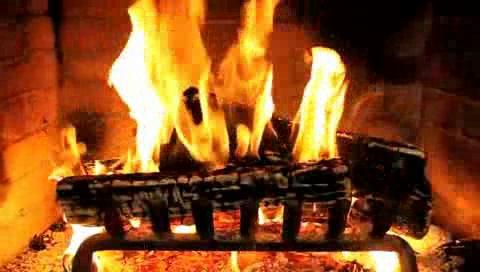fire: (113, 2, 347, 165)
